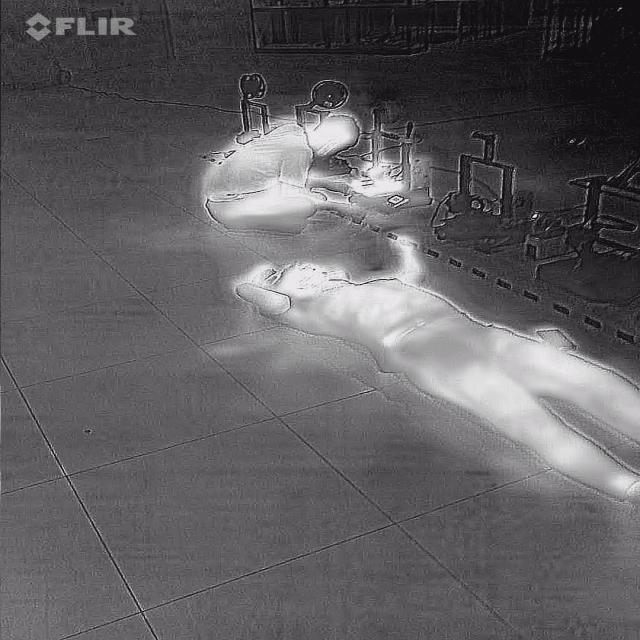Victim: (230, 227, 640, 510), (192, 106, 377, 238)
